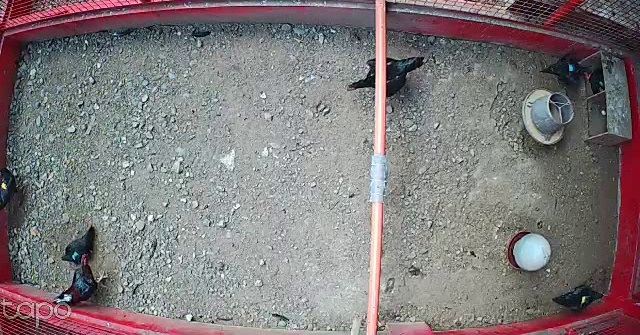Chicken: (343, 38, 427, 102), (546, 281, 609, 315), (537, 53, 591, 87), (60, 228, 97, 267)
Rooster: (50, 251, 115, 313)
Saddle_Color_Blue: (568, 63, 576, 73)
Saddle_Color_Yellow: (581, 296, 587, 304)
